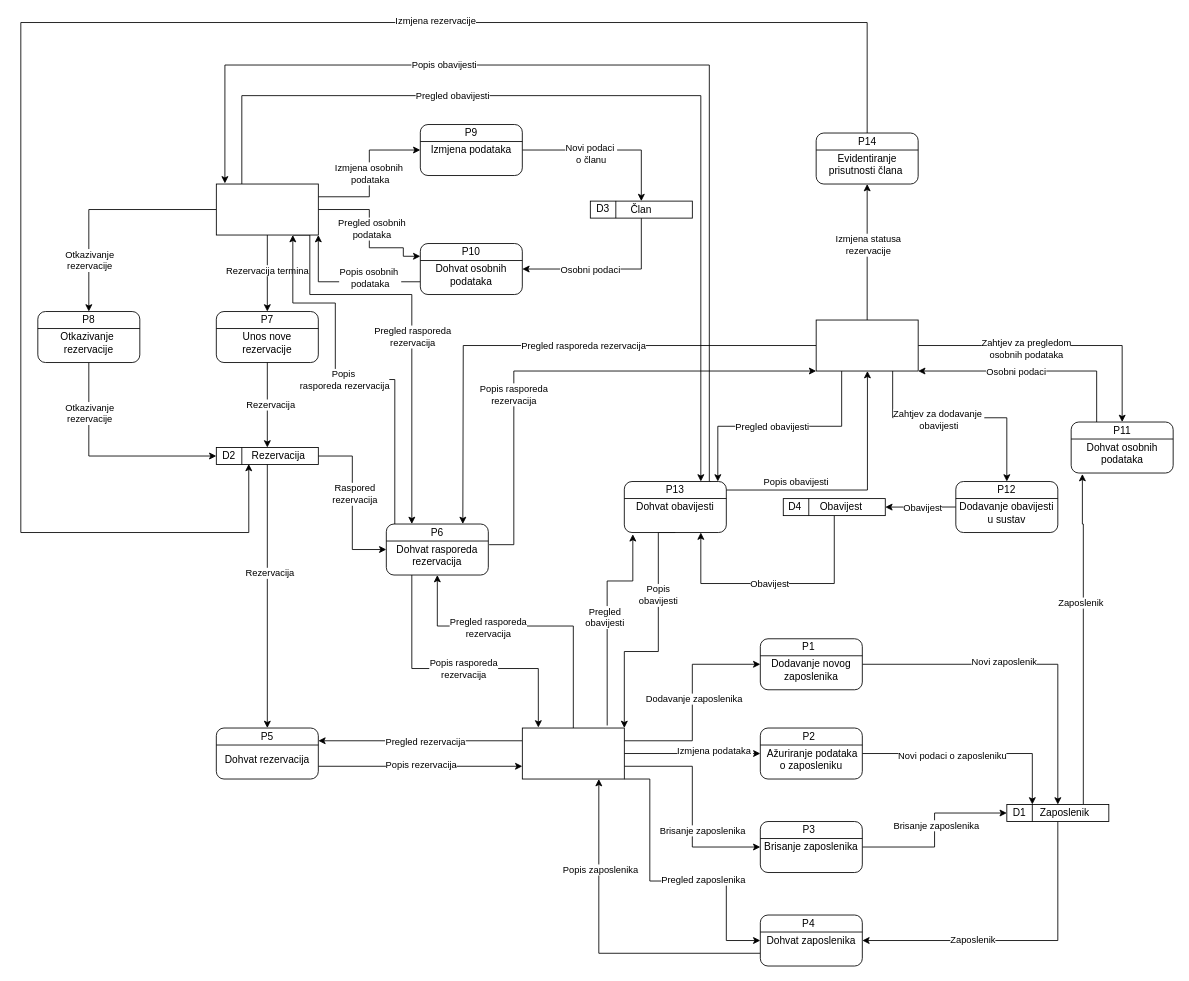
Image size: 1189x981. Some labels were removed from this diagram. Here are the shapes that lost their labels. From the top down, the centre of each, then its label:
point (266, 209): Član sportskog centra
point (866, 345): Zaposlenici sportskog centra
point (572, 753): Administrator
